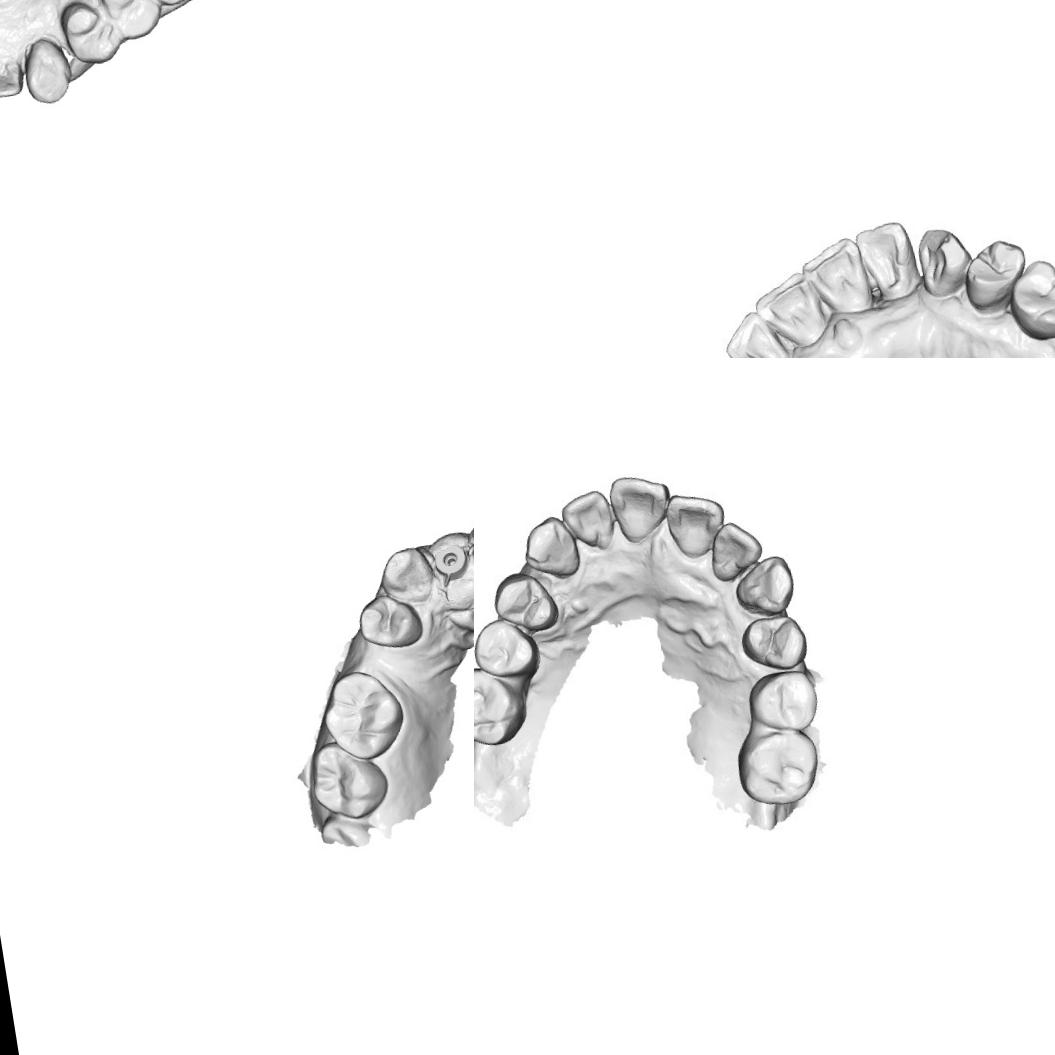canine: (728, 552, 801, 621), (16, 30, 78, 111), (911, 220, 973, 300), (372, 540, 438, 610), (516, 514, 586, 578)
implant: (426, 536, 474, 584)
incisor: (803, 237, 878, 318), (754, 274, 830, 348), (609, 470, 676, 545), (856, 220, 916, 300), (662, 490, 726, 558), (706, 519, 768, 583), (560, 490, 617, 556), (723, 309, 788, 358), (0, 46, 23, 104)
molar: (314, 665, 412, 767), (302, 733, 395, 827), (730, 722, 825, 810), (474, 661, 527, 753)
premolar: (741, 668, 821, 736), (352, 586, 430, 655), (958, 234, 1030, 306), (1001, 254, 1055, 347), (490, 568, 560, 638), (56, 0, 123, 72), (739, 608, 812, 674), (474, 614, 541, 684), (94, 0, 166, 46)
